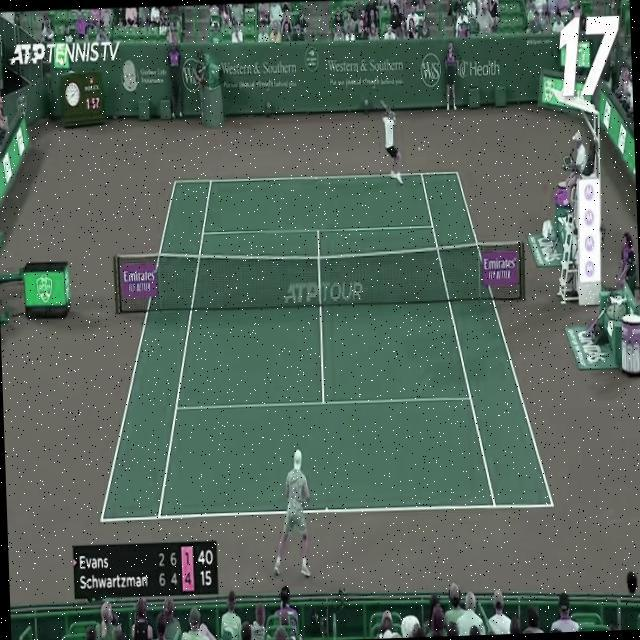court: (87, 166, 555, 524)
net: (112, 238, 526, 316)
player: (267, 448, 313, 579)
